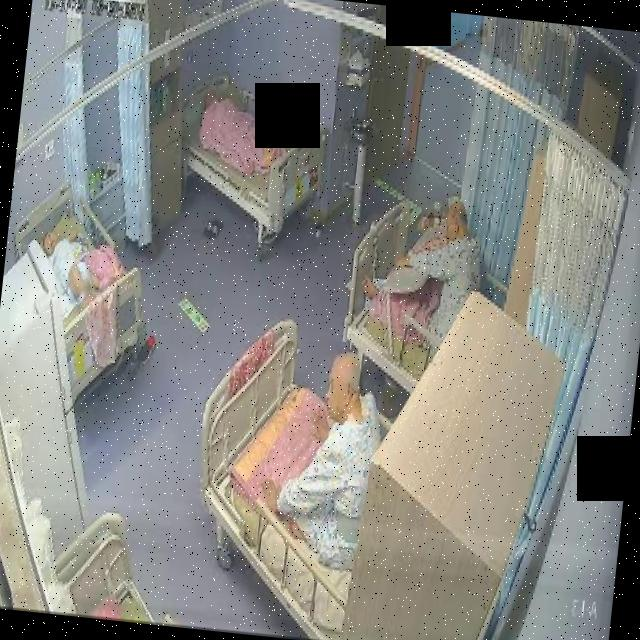bed: (179, 313, 385, 640), (0, 174, 159, 411), (338, 199, 482, 402), (176, 69, 332, 238)
lie: (32, 228, 122, 320)
patient: (252, 344, 388, 572), (356, 192, 484, 349), (34, 228, 94, 306)
sit: (252, 344, 386, 570), (358, 192, 486, 348)
